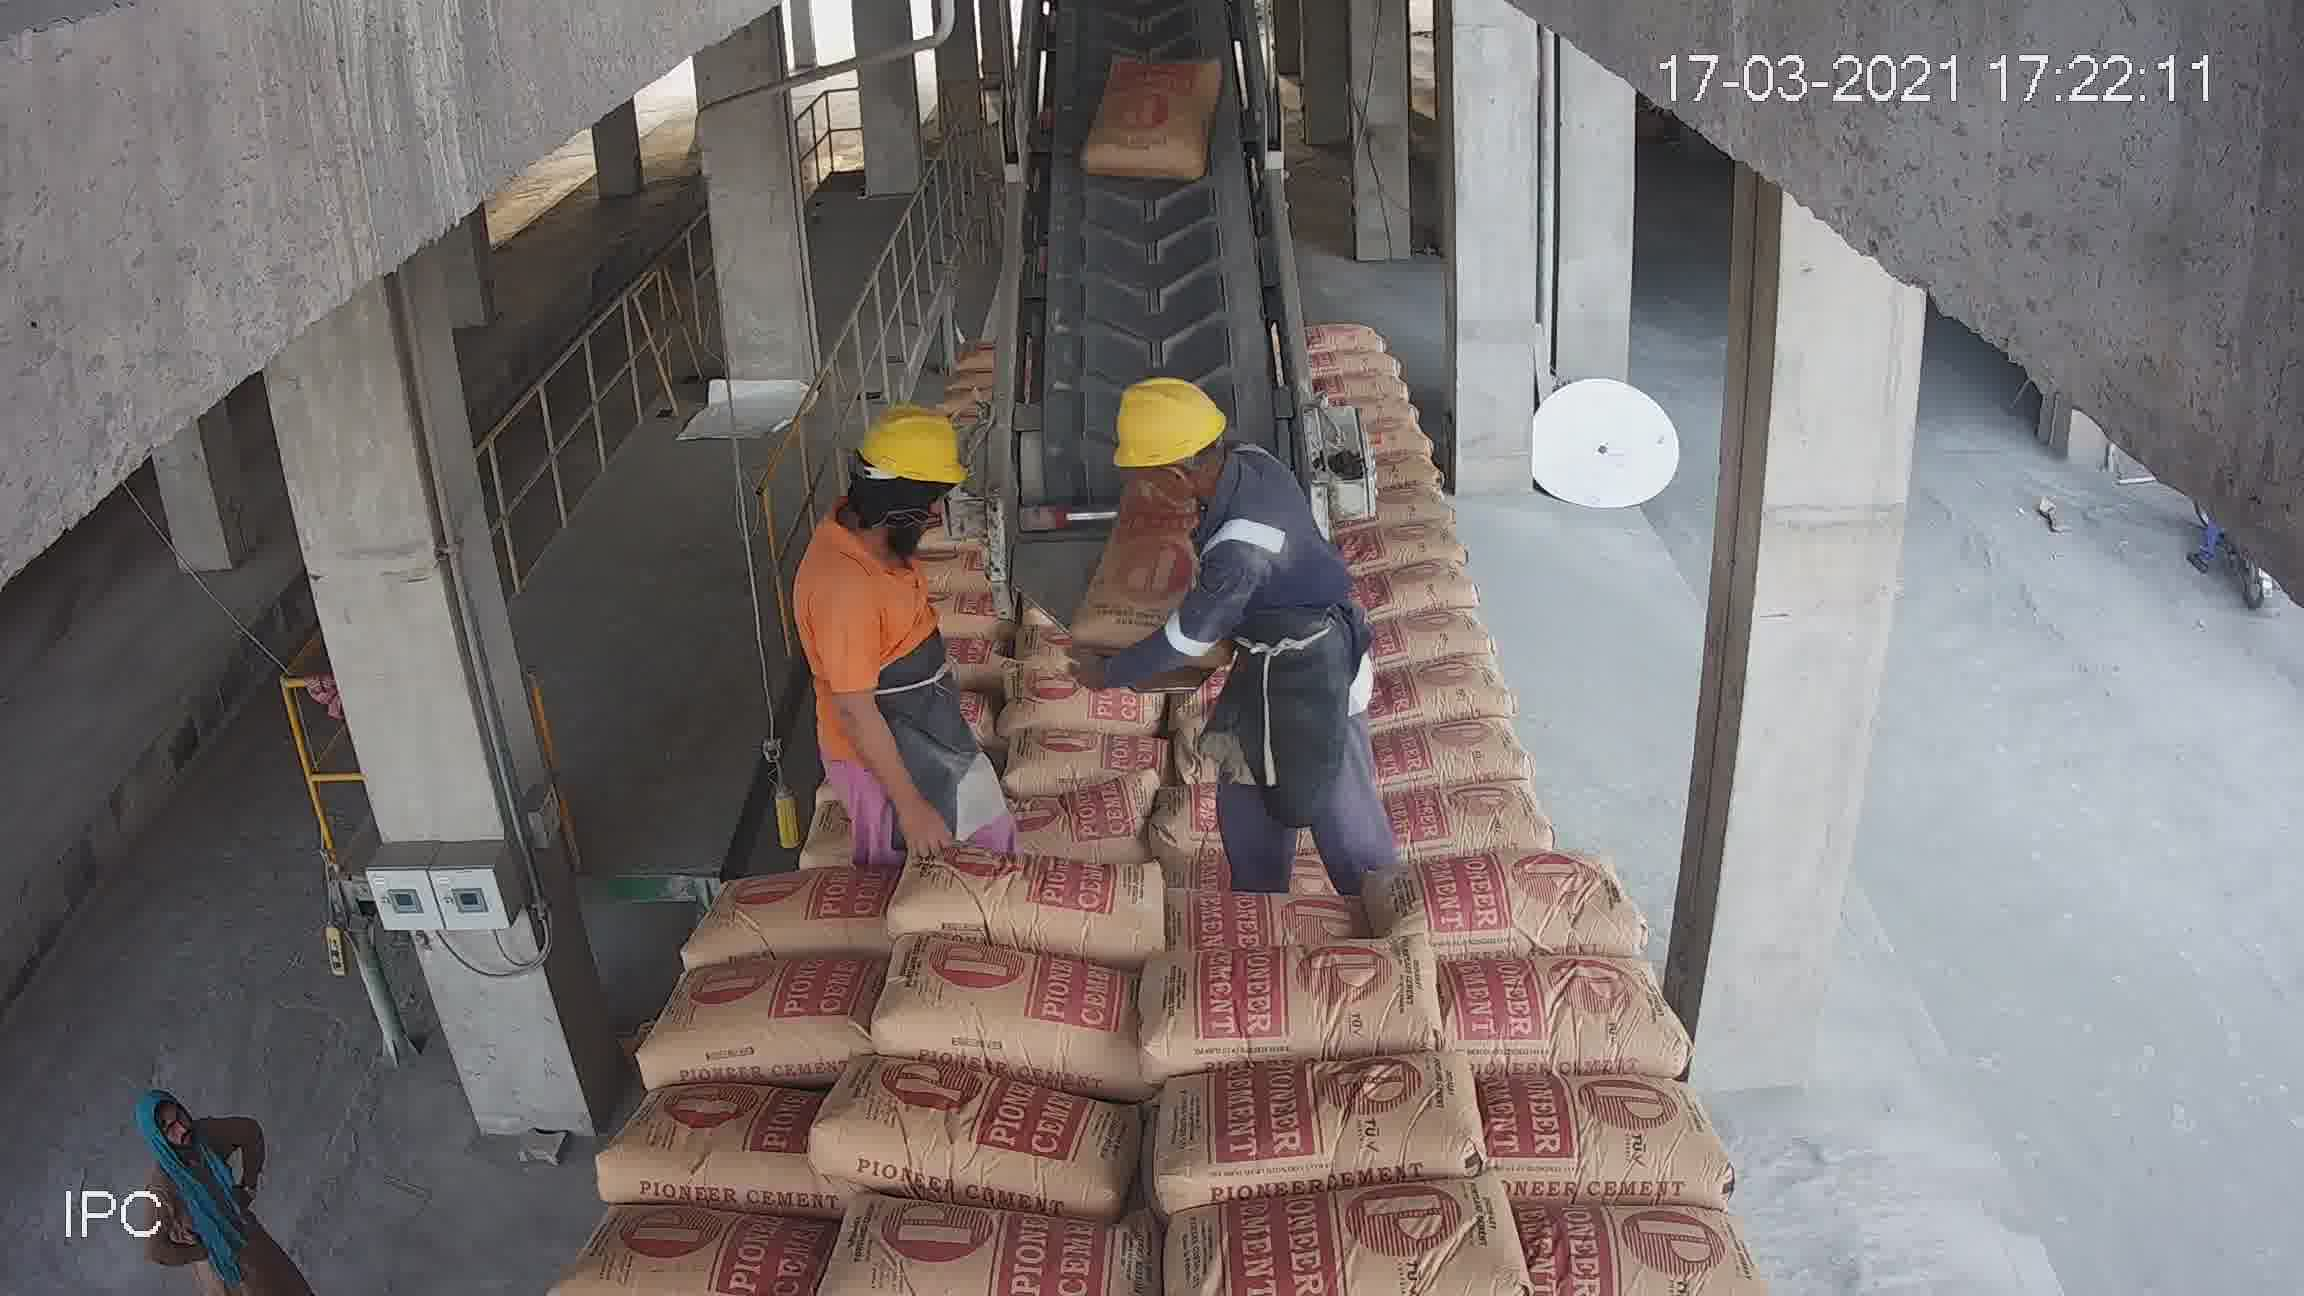bag: (1093, 38, 1198, 146)
bag_h: (1173, 1043, 1500, 1211), (1177, 1174, 1541, 1296), (1109, 714, 1394, 862), (1146, 940, 1457, 1063), (820, 1082, 1147, 1195), (1152, 812, 1407, 954), (623, 951, 880, 1089), (877, 940, 1135, 1070), (896, 840, 1143, 964), (1465, 940, 1676, 1071), (597, 1095, 823, 1217), (1537, 1169, 1775, 1282), (820, 1214, 1157, 1293), (1502, 1071, 1714, 1193), (892, 753, 1146, 845), (1445, 828, 1617, 961), (737, 707, 1002, 790), (707, 766, 892, 878), (688, 870, 894, 965), (579, 1201, 783, 1287), (1423, 755, 1576, 850), (1381, 674, 1548, 758), (1155, 555, 1343, 628), (1131, 620, 1323, 679), (1188, 506, 1328, 578), (1195, 654, 1304, 729), (836, 636, 987, 679), (851, 661, 987, 707), (866, 581, 965, 638), (1339, 383, 1415, 410)
belt: (1033, 40, 1287, 524)
